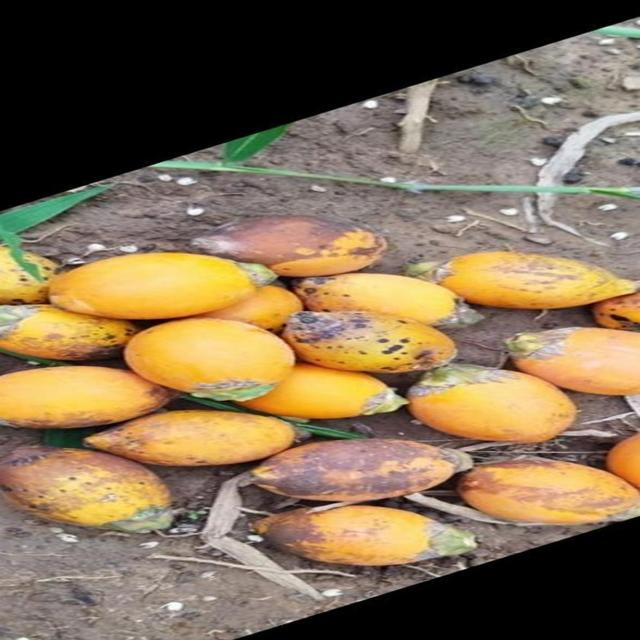good: (408, 327, 639, 439), (431, 448, 639, 560), (212, 439, 499, 520), (0, 449, 181, 536), (124, 318, 296, 408), (48, 252, 253, 323), (81, 408, 298, 470), (284, 312, 455, 382), (436, 252, 639, 310), (0, 366, 171, 432), (256, 506, 435, 568), (321, 273, 458, 326)
